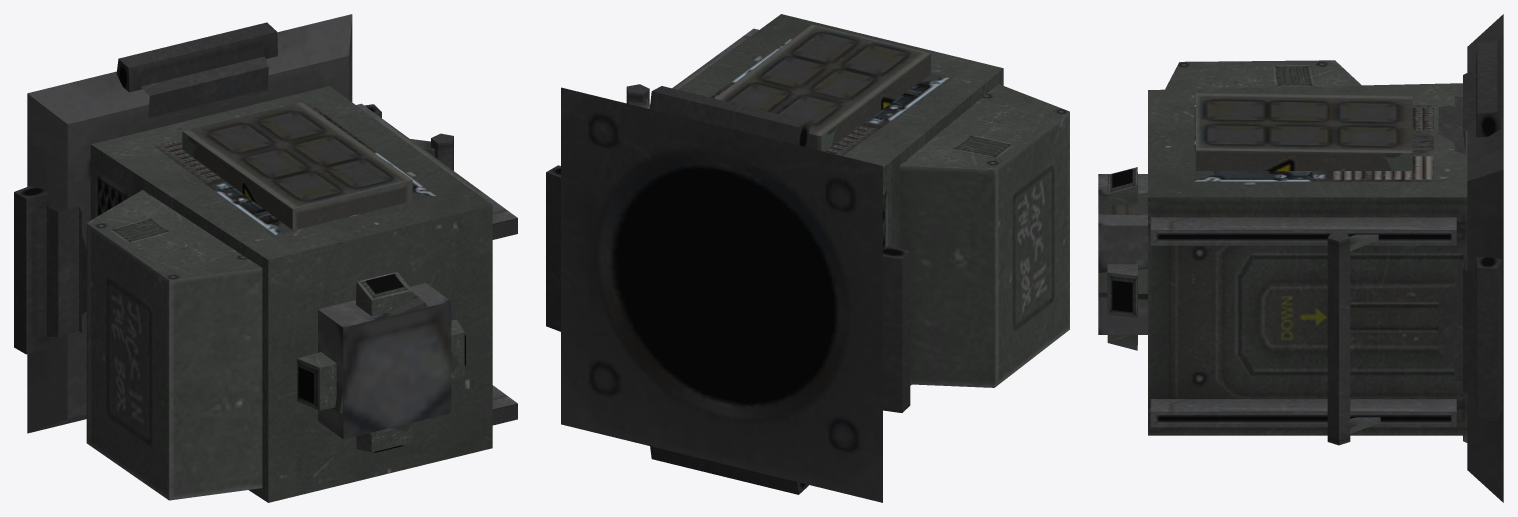
File: t6_wpn_trophy_system_world_LOD2.obj
3 renders of one model, left to right at view 1: azimuth 30°, elevation 25°; view 2: azimuth 150°, elevation 25°; view 3: azimuth 270°, elevation 25°, orthographic. The views are drawn at different scales.
Visible parts, largest first — view 1: mtl_t6_wpn_trophy_system; view 2: mtl_t6_wpn_trophy_system; view 3: mtl_t6_wpn_trophy_system.
Boxes of the visible parts, bbox=[...] form: mtl_t6_wpn_trophy_system: bbox=[14, 14, 517, 502]; mtl_t6_wpn_trophy_system: bbox=[546, 14, 1069, 502]; mtl_t6_wpn_trophy_system: bbox=[1098, 14, 1503, 502].
Bounding box in the file's own units: 50.4 × 48.33 × 48.74.
